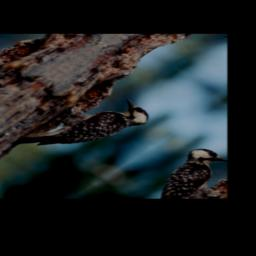Woodpecker: (4, 80, 166, 182)
